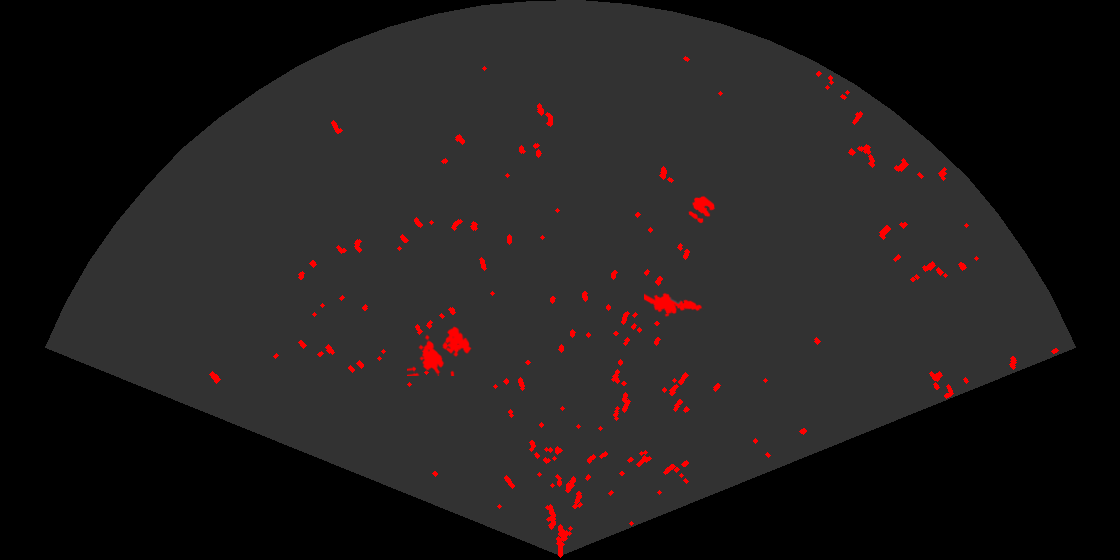ball: (687, 194, 717, 225)
cage: (407, 325, 473, 376)
frogman: (644, 291, 704, 319)
